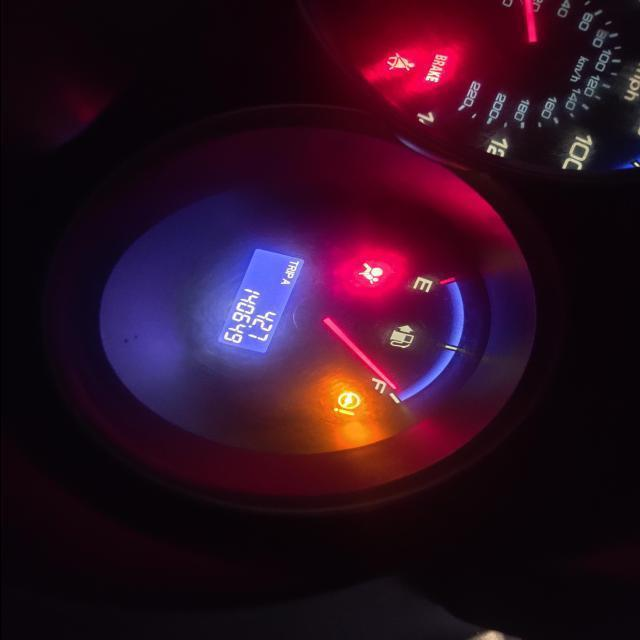Electronic Power Steering: (325, 385, 364, 419)
Seat Belt: (378, 51, 418, 80)
